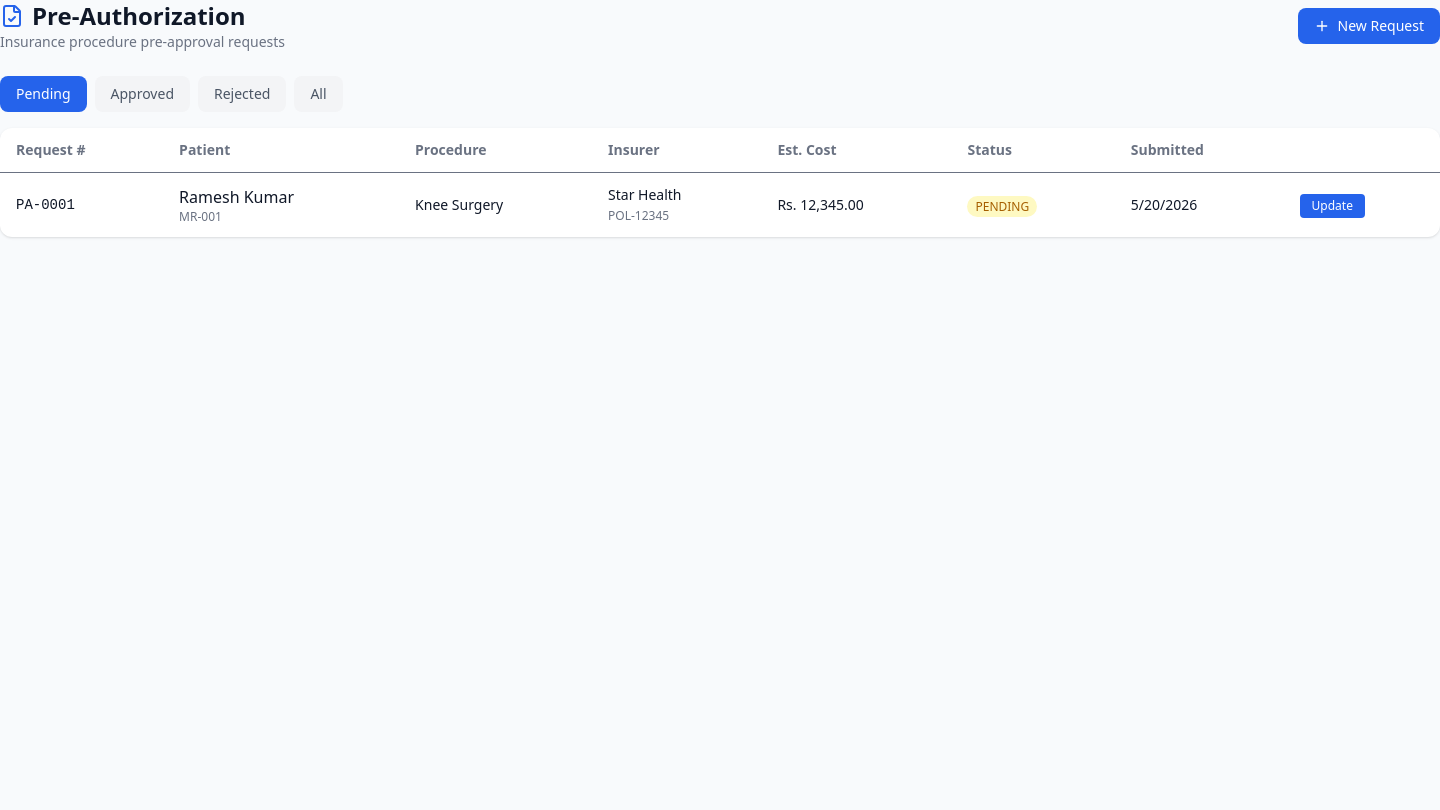
Test: PreAuth dashboard page (insurance pre-authorisation queue) › clicking Update on a PENDING row opens the UpdateStatusModal pre-filled
Check: the text "PA-0001" is shown, box 0,172 -> 163,237
What coordinates should you click on to do the following:
click the button "Update"
I would click on:
 (1332, 206)
Its box is 1300,194 -> 1365,218.
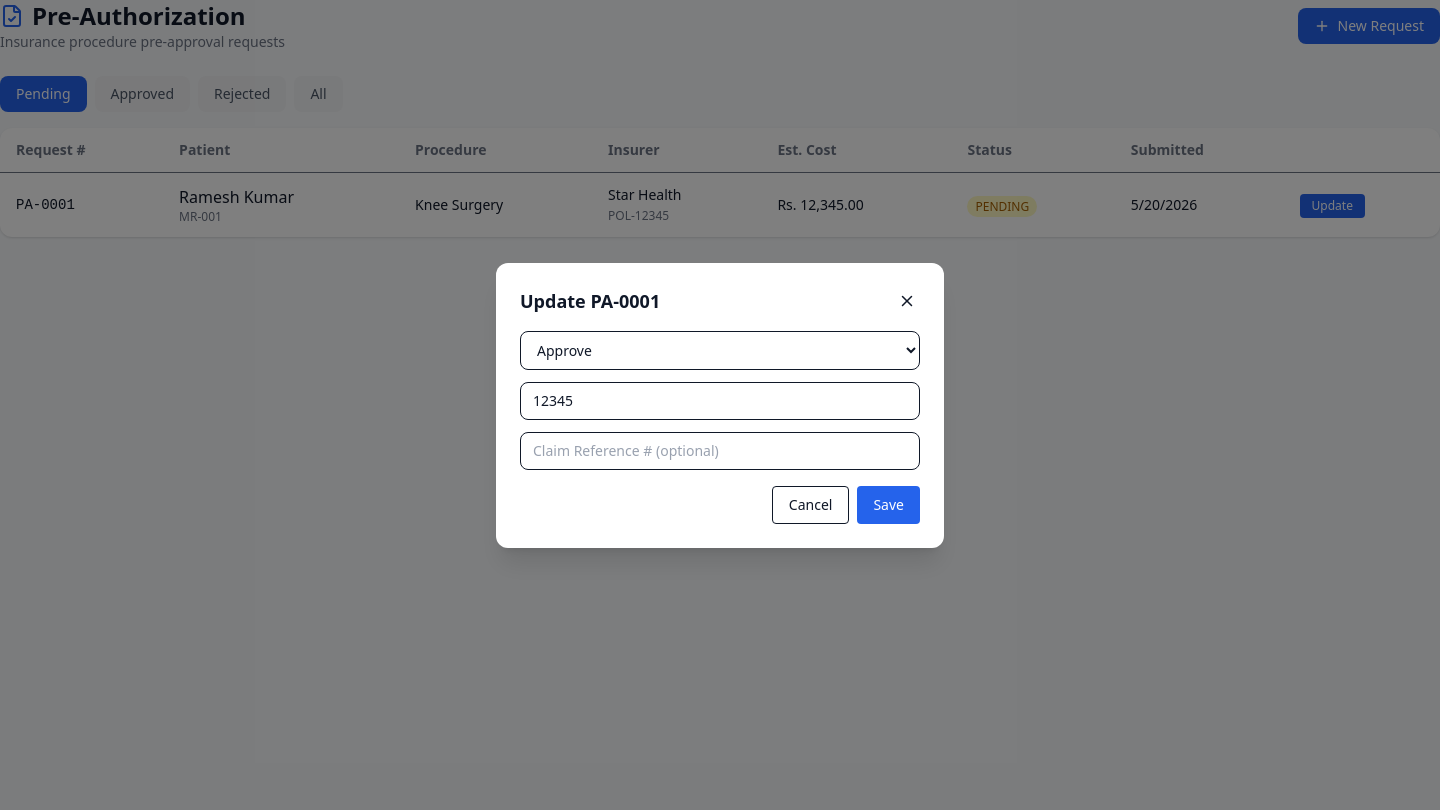
Check: the heading "Update PA-0001" is shown, box 520,286 -> 660,314
Check: the number field holds "12345", box 520,382 -> 920,420
